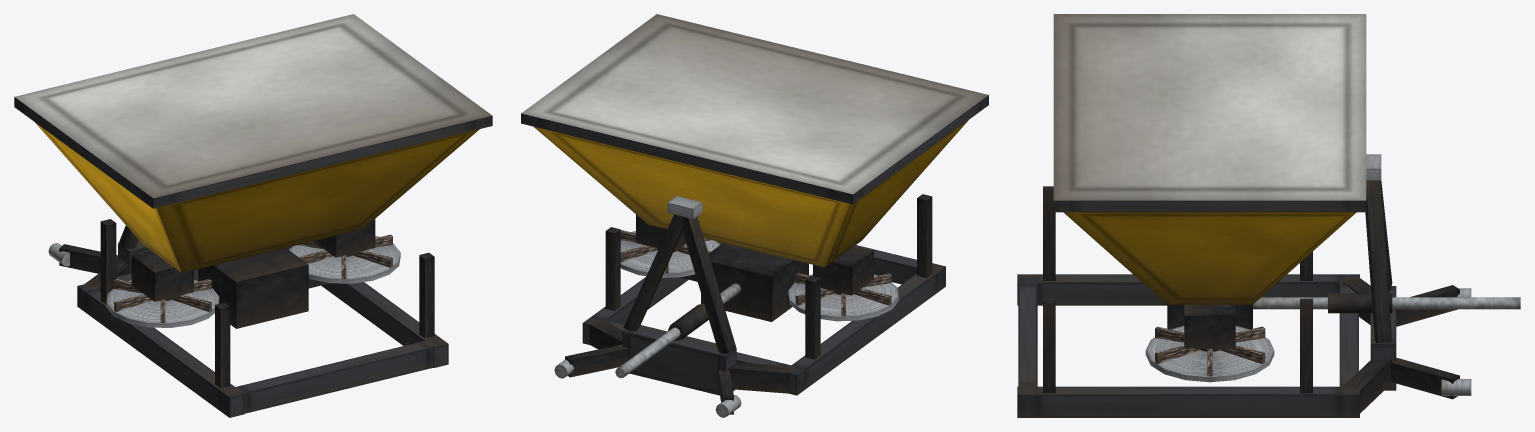
The model's file is Spreader.glb.
3 renders of one model, left to right at view 1: azimuth 30°, elevation 25°; view 2: azimuth 150°, elevation 25°; view 3: azimuth 270°, elevation 25°, orthographic. The views are drawn at different scales.
Visible parts, largest first — view 1: Hopper, Frame, SpreadDisc_L, SpreadDisc_R; view 2: Hopper, Frame, SpreadDisc_L, SpreadDisc_R; view 3: Hopper, Frame, SpreadDisc_R.
Boxes of the visible parts, x1,y1,x2,y2 form: Hopper: (14, 14, 492, 301); Frame: (48, 219, 448, 417); SpreadDisc_L: (106, 278, 219, 327); SpreadDisc_R: (289, 234, 400, 283); Hopper: (521, 14, 988, 295); Frame: (554, 194, 945, 417); SpreadDisc_L: (788, 273, 898, 321); SpreadDisc_R: (620, 230, 720, 277); Hopper: (1053, 14, 1366, 348); Frame: (1017, 154, 1520, 417); SpreadDisc_R: (1145, 325, 1274, 382).
Bounding box in the file's own units: 2.06 × 1.31 × 2.35.
1 material, 1 textured.
